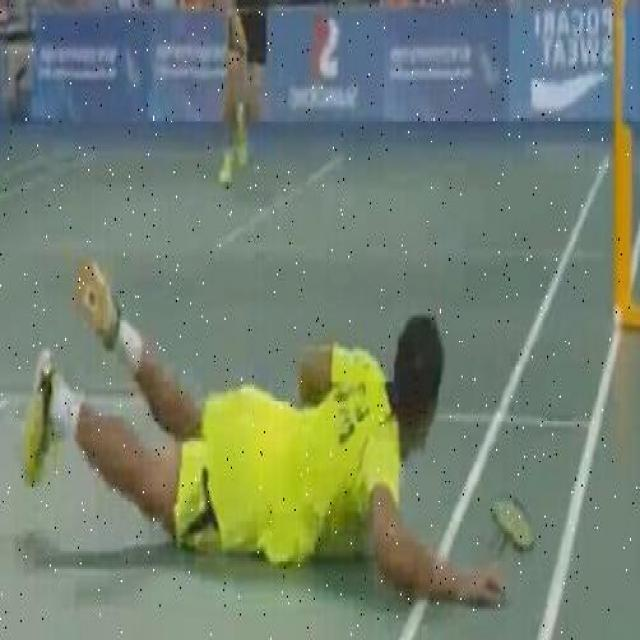fall: (37, 289, 480, 580)
